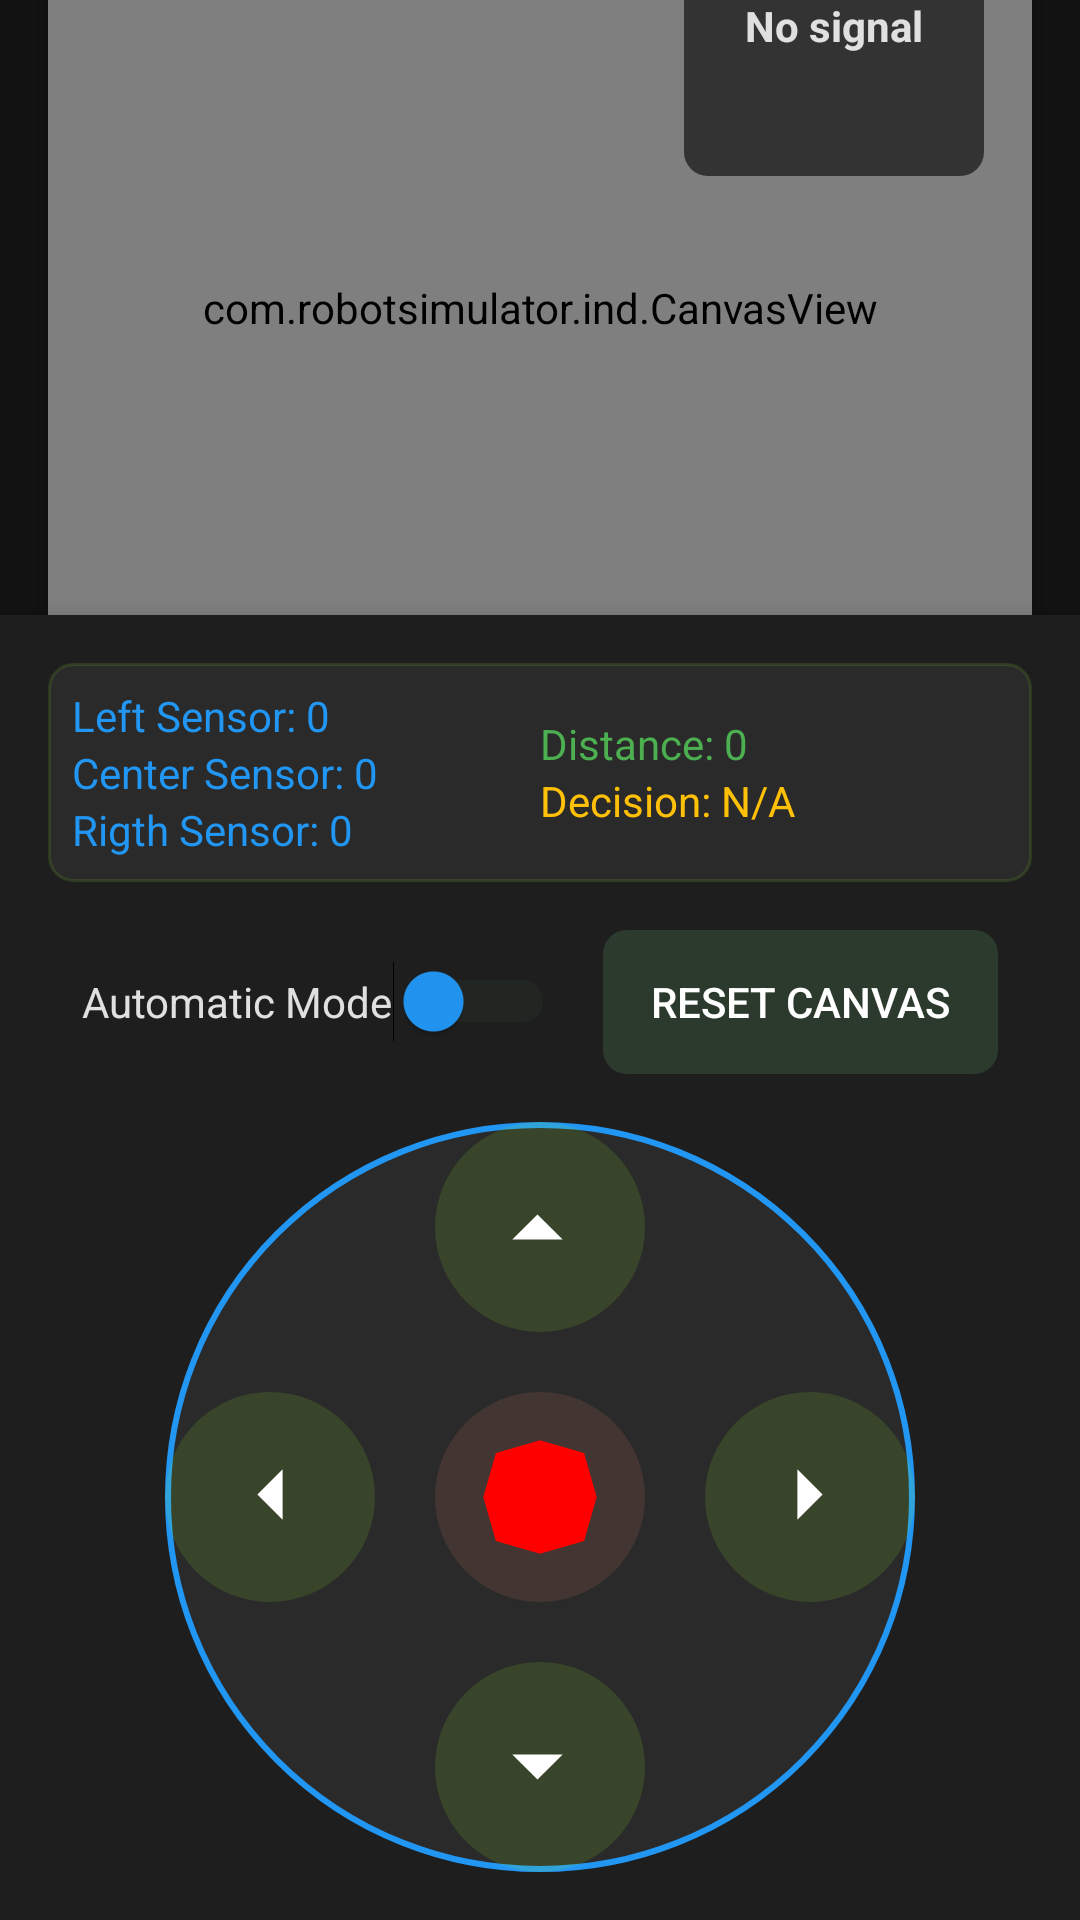

Screen size 1080 × 1920. Icon name, then its center in pixels as (x,y):
arrow down: (540,1767)
arrow left: (270,1497)
arrow right: (810,1497)
arrow up: (540,1227)
stop: (540,1497)
